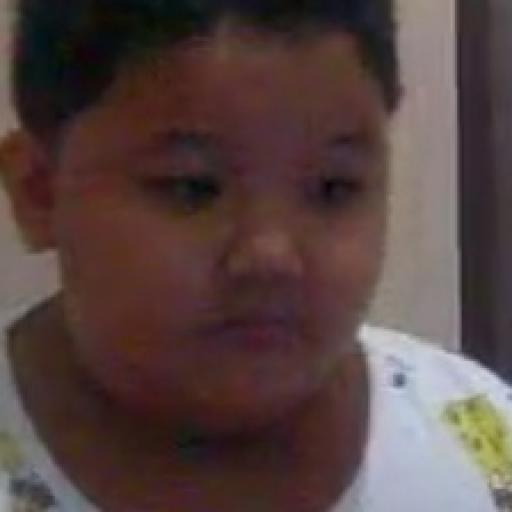Autism: (36, 26, 398, 457)
